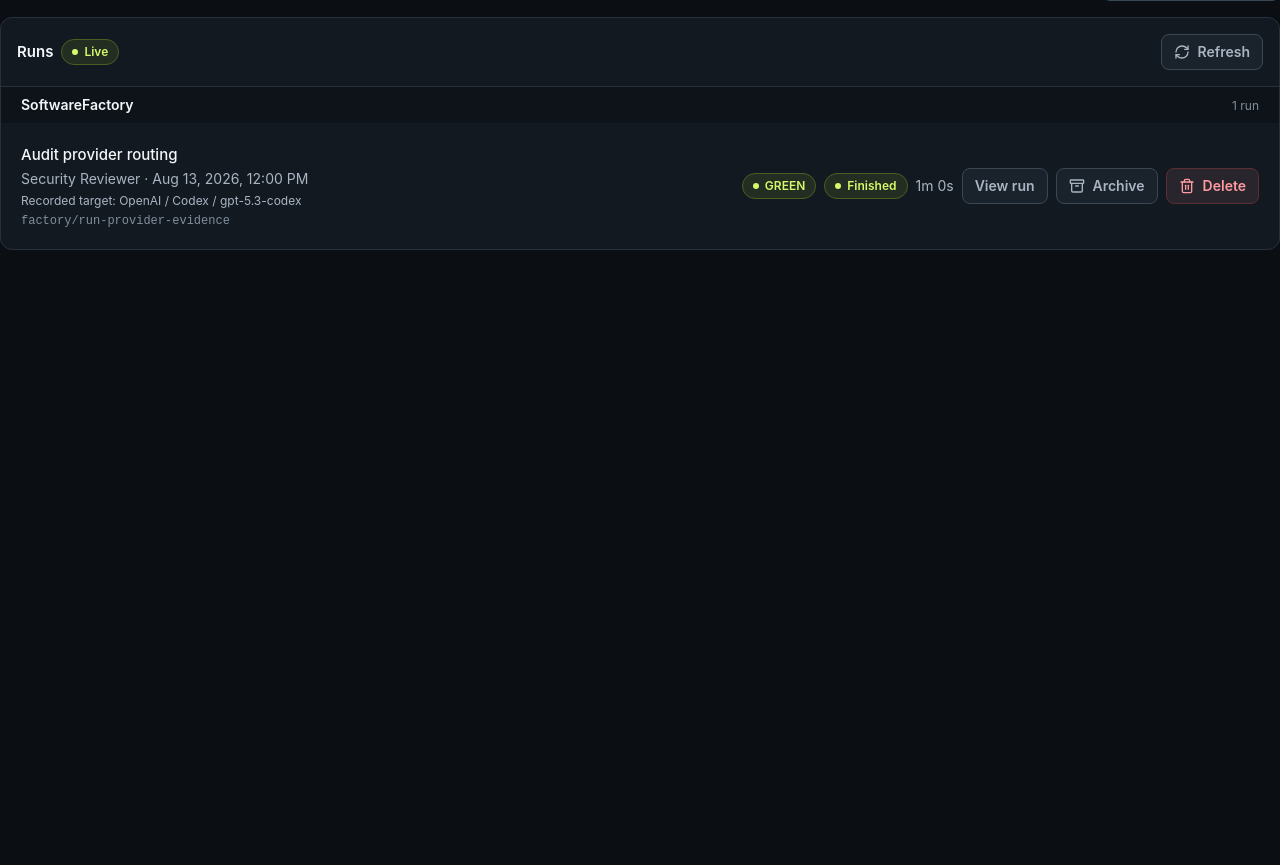
Test case: RunsConsole provider evidence › shows bounded durable provider/model routing evidence without inferring live health
expect the text "Recorded target: OpenAI / Codex / gpt-5.3-codex" is shown: met, box [21,193,308,209]
What coordinates should you click on to do the following:
click the button "View run"
I would click on:
 (1005, 186)
Its box is [962,168,1048,204].
(page scrolled)
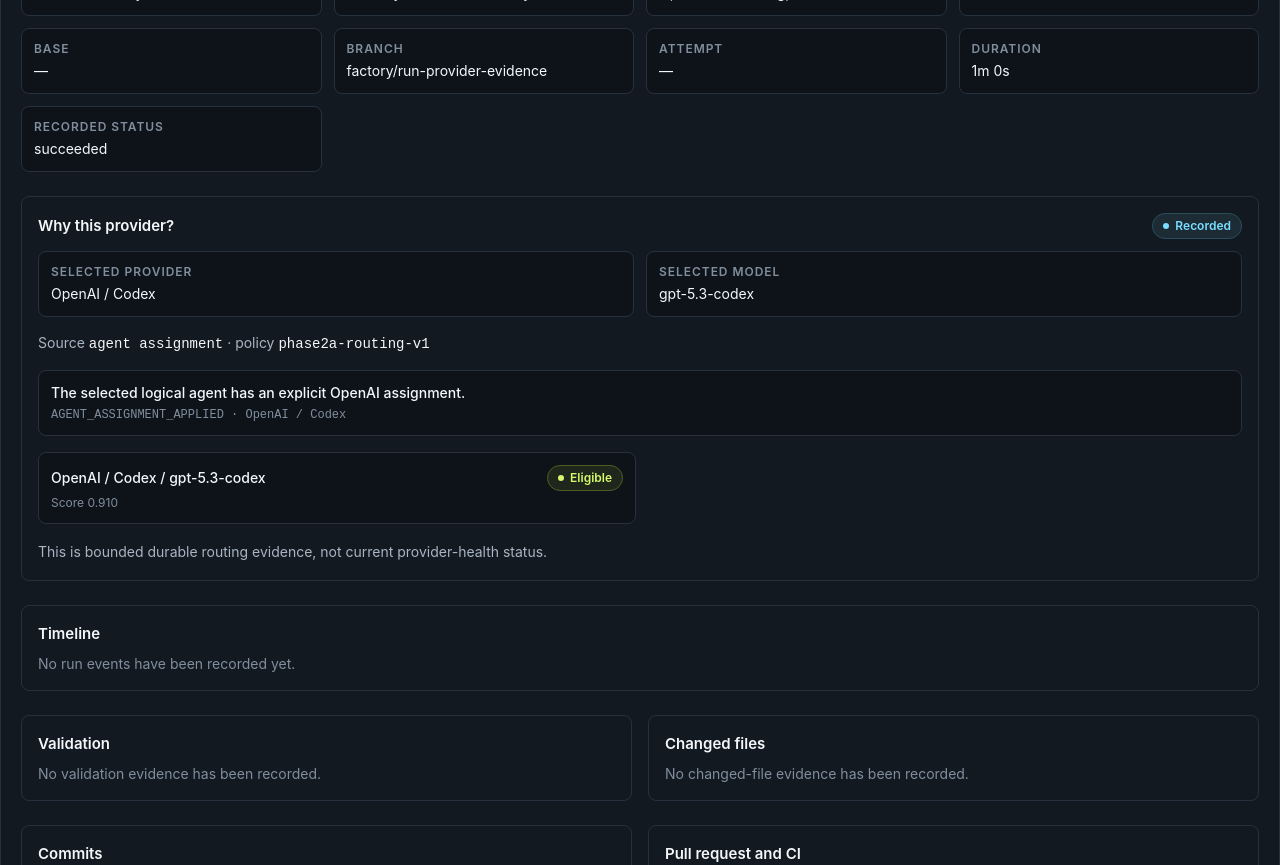
expect the text "OpenAI / Codex" is shown: met, box [51,285,156,302]
expect the text "gpt-5.3-codex" is shown: met, box [659,285,754,302]
expect the text "explicit OpenAI assignment" is shown: met, box [51,384,465,401]
